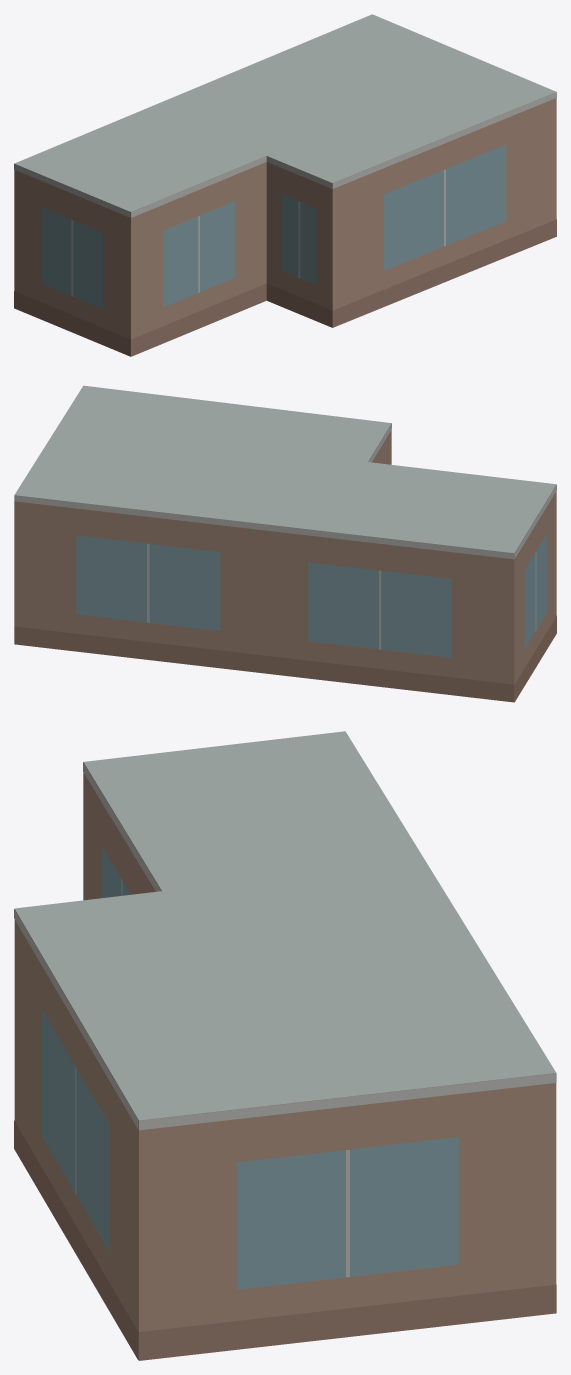
The model's file is survey-upis-32694382.glb.
3 renders of one model, top to bottom at view 1: azimuth 30°, elevation 25°; view 2: azimuth 150°, elevation 25°; view 3: azimuth 270°, elevation 25°, orthographic. The views are drawn at different scales.
Parts seen in each view (by area): view 1: survey-upis-32694382.tmp; view 2: survey-upis-32694382.tmp; view 3: survey-upis-32694382.tmp.
Boxes of the visible parts, <box> form: survey-upis-32694382.tmp: <box>14,14,556,356</box>; survey-upis-32694382.tmp: <box>14,385,556,702</box>; survey-upis-32694382.tmp: <box>14,731,556,1360</box>.
Bounding box in the file's own units: 10.61 × 3.05 × 6.25.
